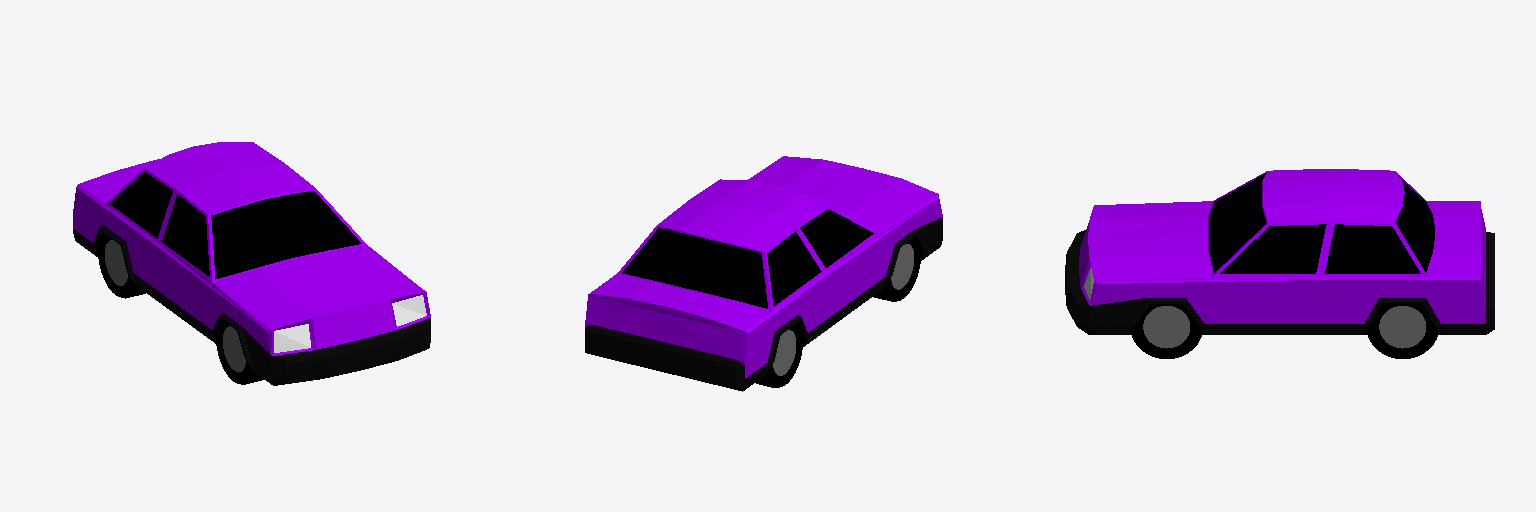
The model's file is Car7.obj.
The picture shows the model from 3 angles: view 1: azimuth 30°, elevation 25°; view 2: azimuth 150°, elevation 25°; view 3: azimuth 270°, elevation 25°; orthographic projection.
Parts seen in each view (by area): view 1: Car_Cube; view 2: Car_Cube; view 3: Car_Cube.
Part boxes in pixels (x1,y1,x2,y2): Car_Cube: (73, 142, 430, 385); Car_Cube: (585, 156, 942, 391); Car_Cube: (1065, 169, 1494, 358).
Bounding box in the file's own units: 2.1 × 1.59 × 4.67.